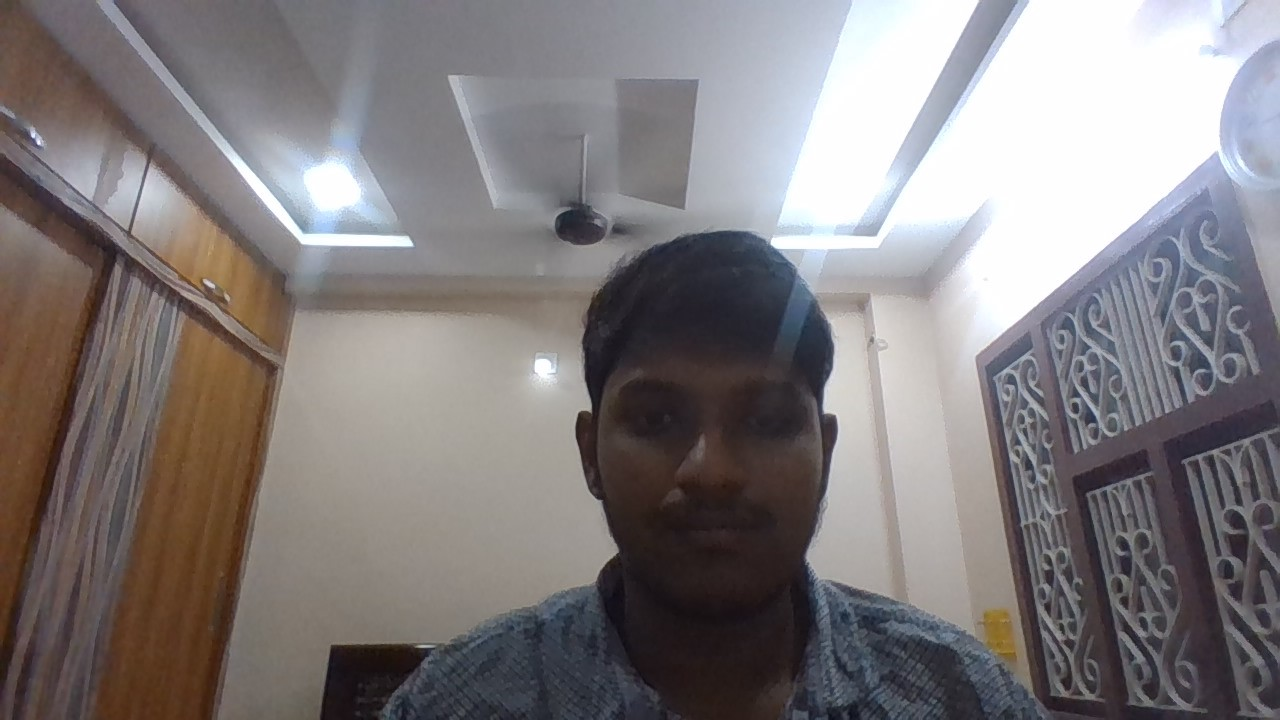person: (294, 63, 1151, 720)
